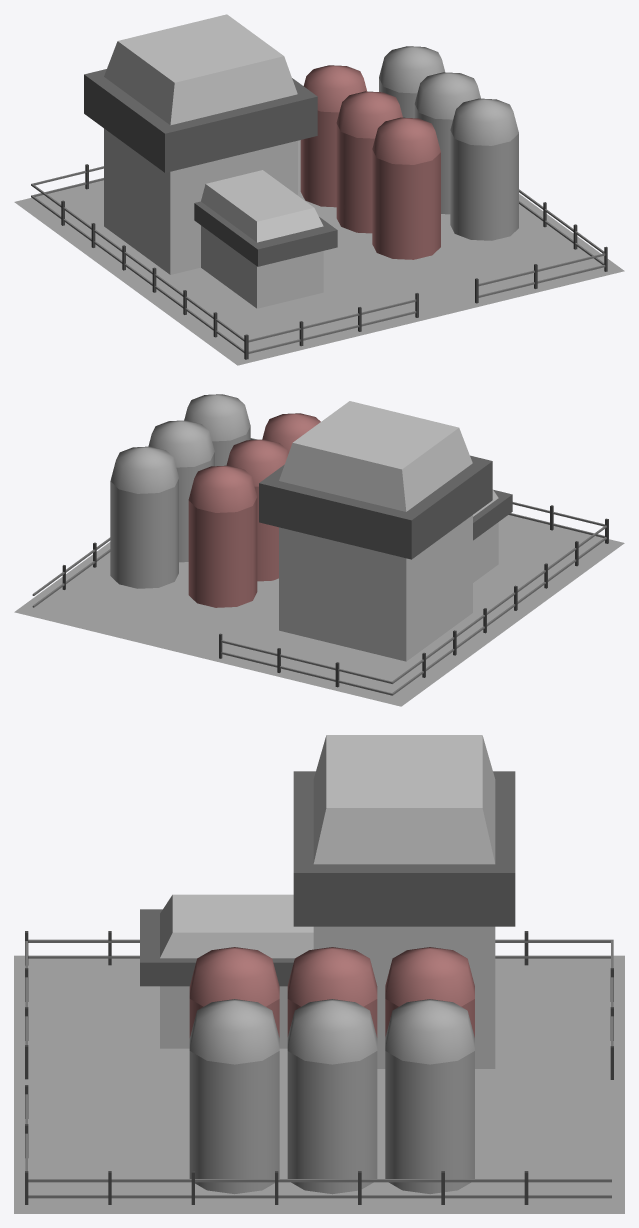
File: Building_PlasticProcessing.fbx
3 views of the same model, one above another, from view 1: azimuth 30°, elevation 25°; view 2: azimuth 150°, elevation 25°; view 3: azimuth 270°, elevation 25° (orthographic). The views are drawn at different scales.
Visible parts, largest first — view 1: polySurface759, Floor_Unit2, polySurface757, pCylinder50, pCylinder51, polySurface321, pCylinder49, pCylinder46, polySurface758, pCylinder48, pCylinder47; view 2: polySurface759, Floor_Unit2, polySurface757, pCylinder46, pCylinder47, polySurface321, pCylinder48, pCylinder49, pCylinder50, pCylinder51, polySurface758; view 3: Floor_Unit2, polySurface759, polySurface757, pCylinder48, pCylinder50, pCylinder47, polySurface321, pCylinder49, pCylinder51, pCylinder46, polySurface758.
Part boxes in pixels (x1,y1,x2,y2): polySurface759: (104,14,323,308); Floor_Unit2: (14,140,624,365); polySurface757: (84,69,317,172); pCylinder50: (450,98,518,240); pCylinder51: (372,117,440,259); polySurface321: (31,164,607,359); pCylinder49: (336,91,402,233); pCylinder46: (300,65,367,207); polySurface758: (194,201,337,266); pCylinder48: (414,72,480,214); pCylinder47: (379,46,444,118); polySurface759: (279,401,498,661); Floor_Unit2: (14,515,624,706); polySurface757: (259,455,492,559); pCylinder46: (188,465,257,607); pCylinder47: (110,446,178,588); polySurface321: (32,438,608,695); pCylinder48: (148,420,214,562); pCylinder49: (226,439,288,581); pCylinder50: (184,394,250,466); pCylinder51: (262,413,320,453); polySurface758: (473,490,512,540); Floor_Unit2: (14,955,624,1213); polySurface759: (160,735,495,1068); polySurface757: (293,771,515,926); pCylinder48: (287,999,377,1194); pCylinder50: (189,999,279,1194); pCylinder47: (385,999,474,1194); polySurface321: (25,931,613,1204); pCylinder49: (287,947,377,1037); pCylinder51: (189,947,279,1037); pCylinder46: (385,947,474,1037); polySurface758: (140,909,294,986).
Size of the model in its own units: 2 by 0.9237 by 2.
